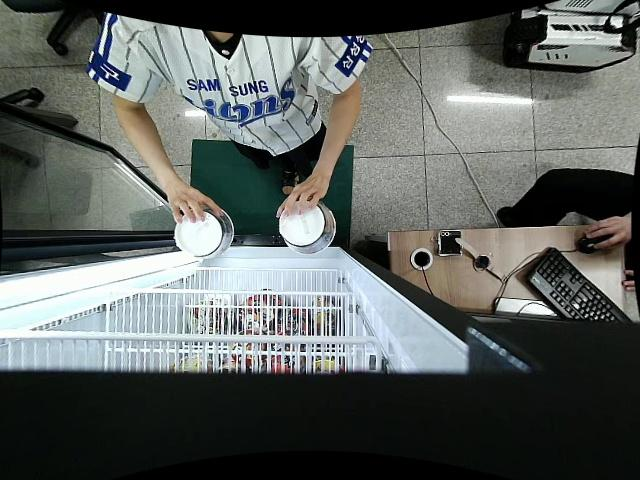00_hand: (165, 180, 224, 223), (275, 177, 331, 217)
07_buldak_L: (174, 204, 235, 259), (279, 201, 336, 254)
